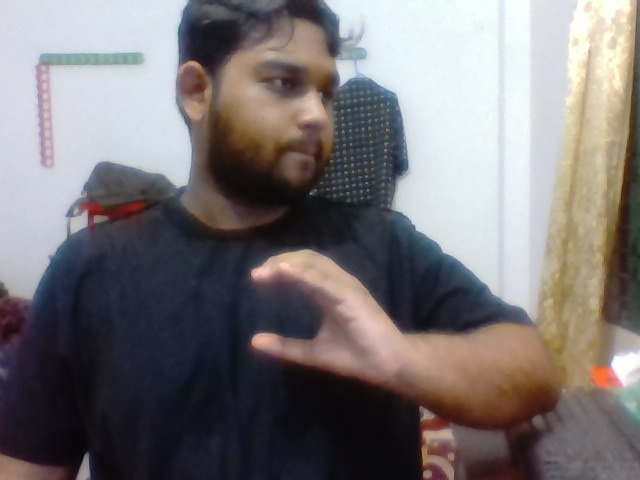C: (231, 246, 407, 397)
